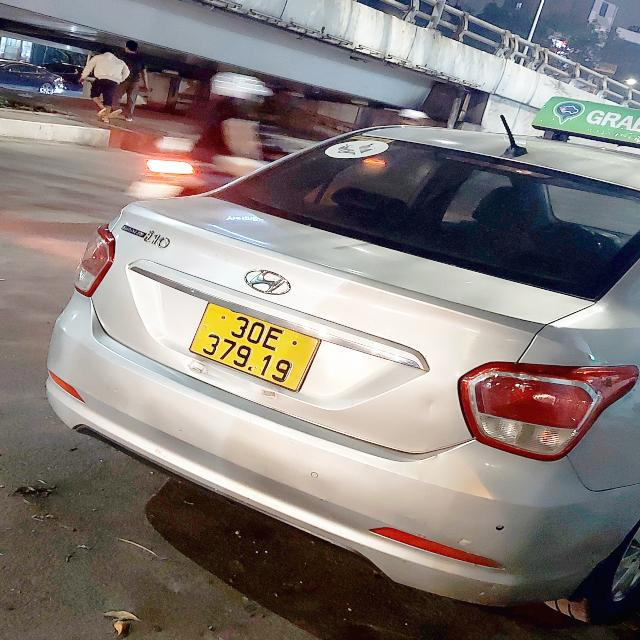license_plate: (190, 304, 321, 392)
